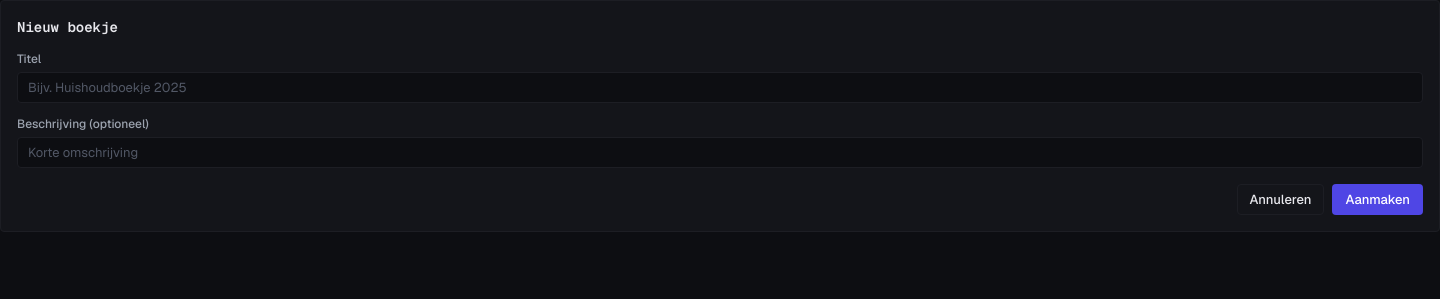
Test: shows error when createBoekje throws
This screenshot has width=1440, height=299.
Type "Test" into the field with placeholder "Bijv. Huishoudboekje 2025" at {"x": 720, "y": 88}, box [17,72,1423,103]
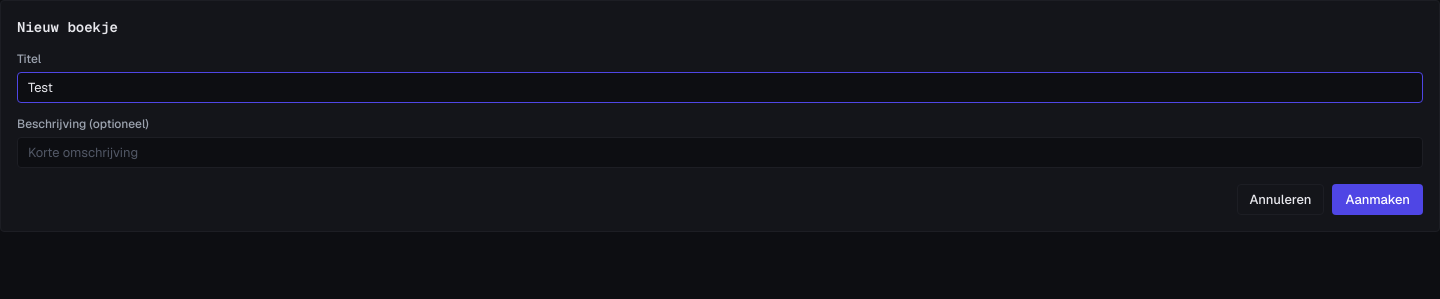
Click the button "Aanmaken" at {"x": 1378, "y": 200}, box [1332,184,1423,215]
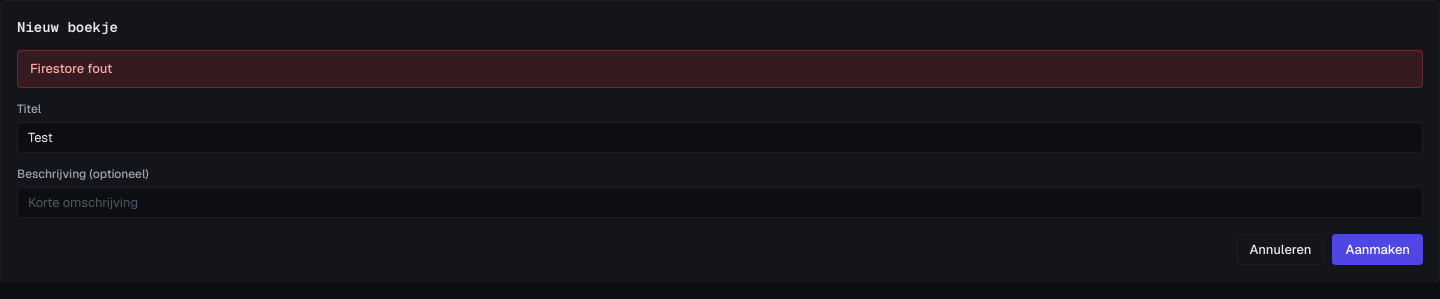
Expected: the text "Firestore fout" is shown, [17,50,1423,88]
